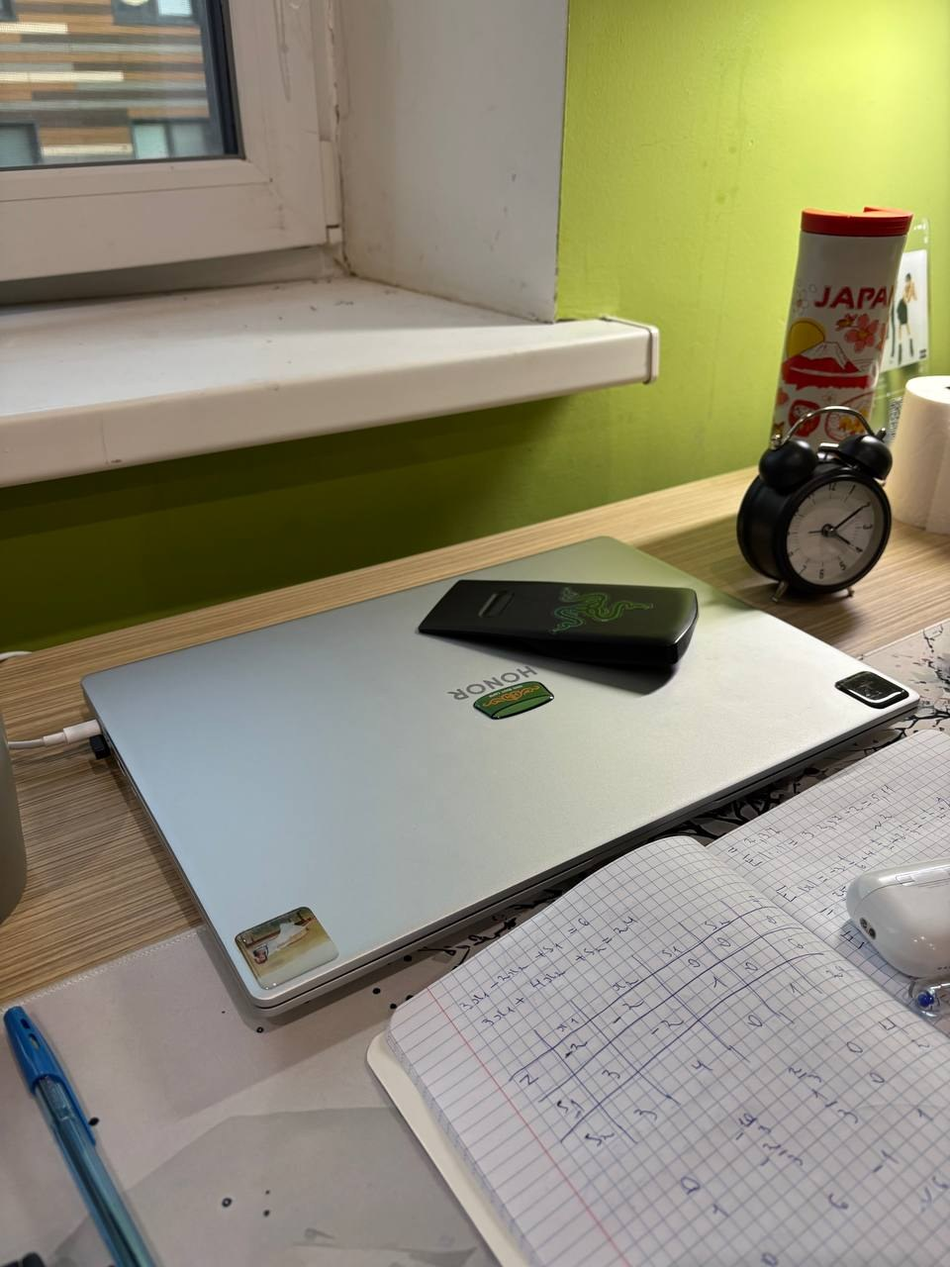cell phone: (835, 670, 908, 708)
laptop: (80, 533, 922, 1017)
